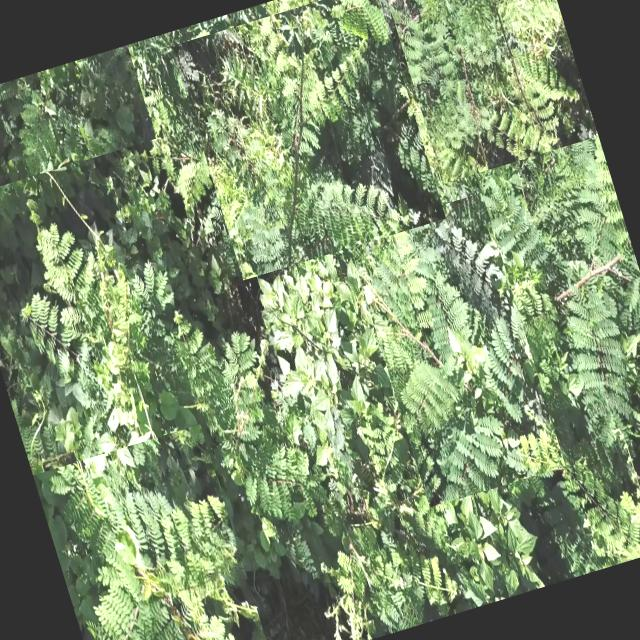Mysore-Thorn-Weed: (172, 0, 446, 279), (346, 192, 566, 507), (33, 423, 275, 640), (160, 272, 334, 548), (1, 202, 200, 437), (481, 142, 640, 430), (383, 0, 598, 183), (0, 44, 155, 201), (551, 423, 640, 573), (117, 110, 225, 217)
